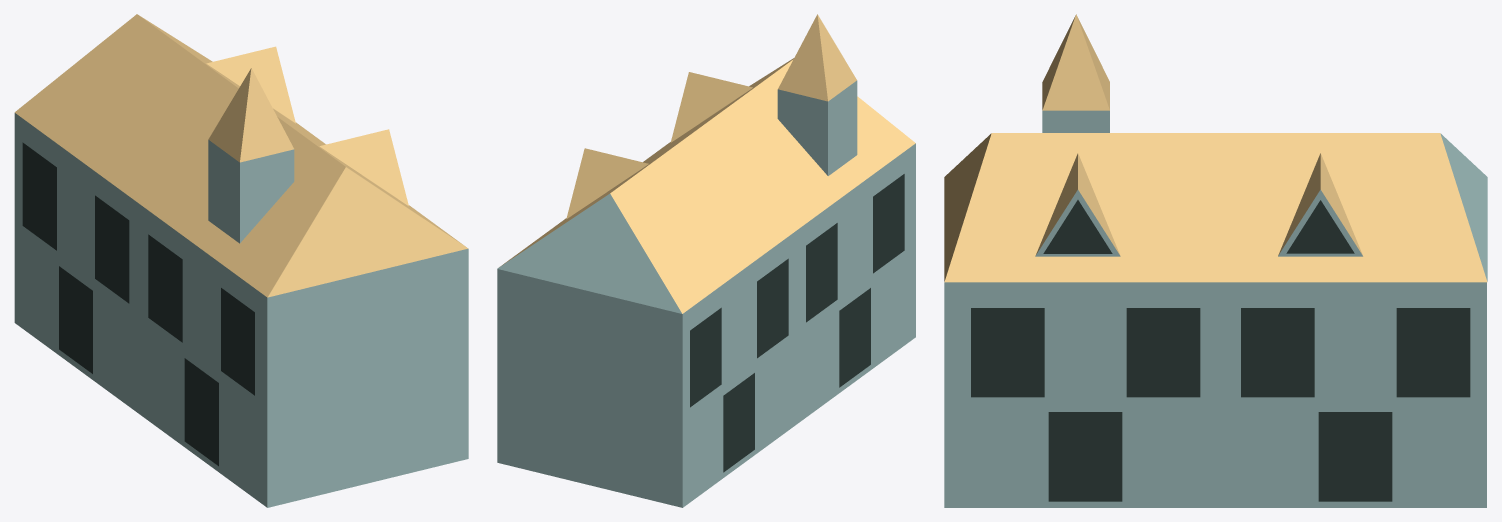
The model's file is House 1.fbx.
3 views of the same model, side by side, from view 1: azimuth 30°, elevation 25°; view 2: azimuth 150°, elevation 25°; view 3: azimuth 270°, elevation 25° (orthographic). The views are drawn at different scales.
Parts seen in each view (by area): view 1: House Model Generic; view 2: House Model Generic; view 3: House Model Generic.
Part boxes in pixels (box(x1,y1,x2,y2)): House Model Generic: box(14, 14, 468, 507); House Model Generic: box(497, 14, 915, 507); House Model Generic: box(944, 14, 1487, 507).
Size of the model in its own units: 400 by 731 by 872.
